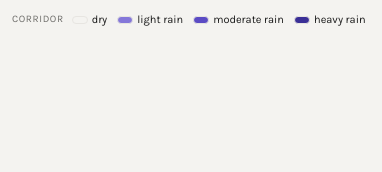
Test case: the key beside the choice › says plainly which band the map paints nothing for
Hover over the button "dry" at (89, 20), box [70, 14, 109, 25]
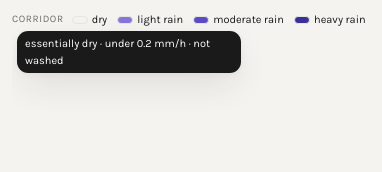
Check: the tooltip shows "not washed", box [25, 37, 210, 67]
